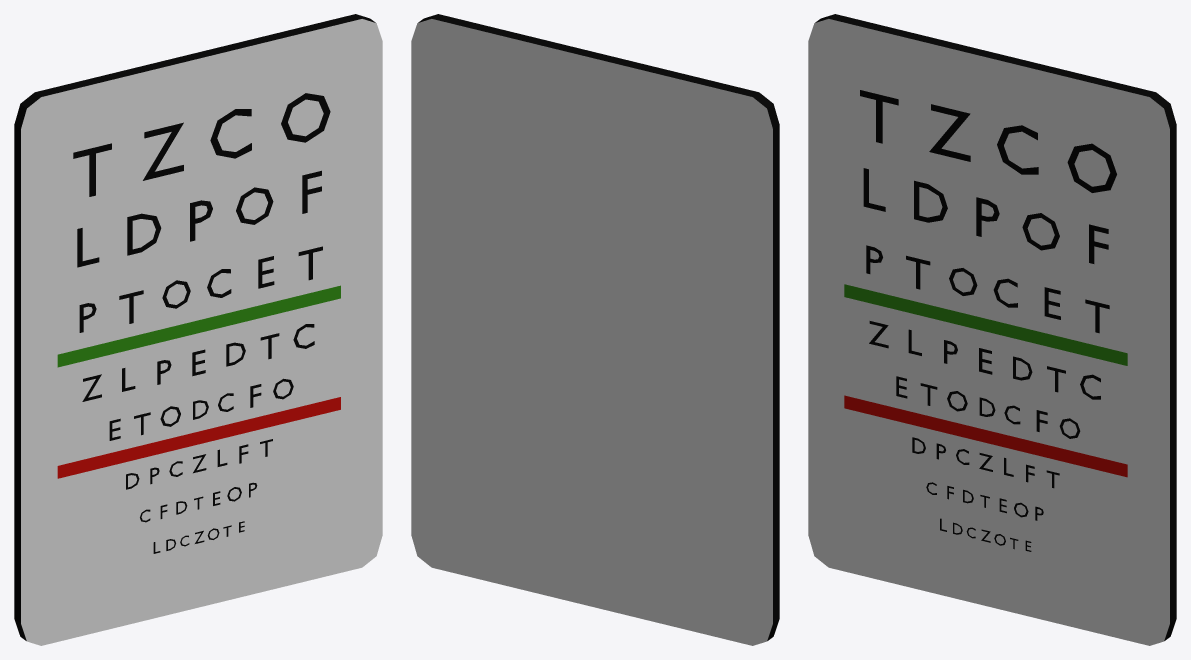
Rendered from H_Vision_Test.fbx.
The picture shows the model from 3 angles, left to right: view 1: azimuth 30°, elevation 25°; view 2: azimuth 150°, elevation 25°; view 3: azimuth 330°, elevation 25°; orthographic projection.
Visible parts, largest first — view 1: H_Vision_Test; view 2: H_Vision_Test; view 3: H_Vision_Test.
Boxes of the visible parts, x1,y1,x2,y2 form: H_Vision_Test: [14, 14, 382, 645]; H_Vision_Test: [411, 14, 779, 645]; H_Vision_Test: [808, 14, 1176, 645].
Bounding box in the file's own units: 272 × 9.12 × 395.
